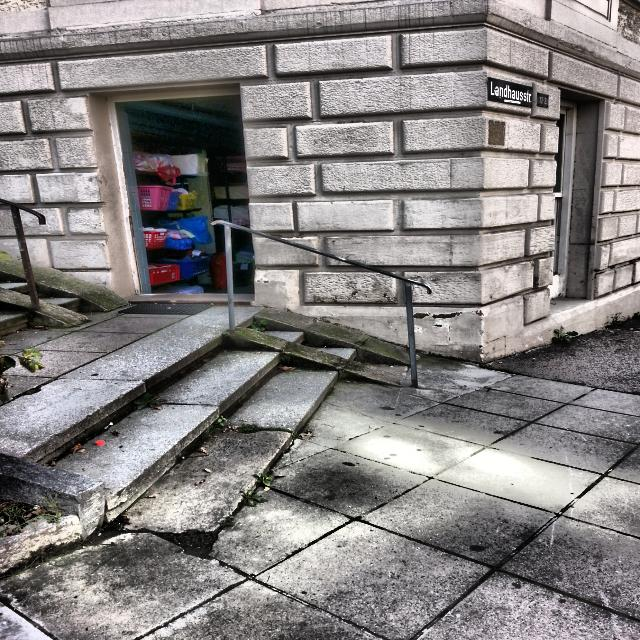escada: (2, 343, 333, 536)
